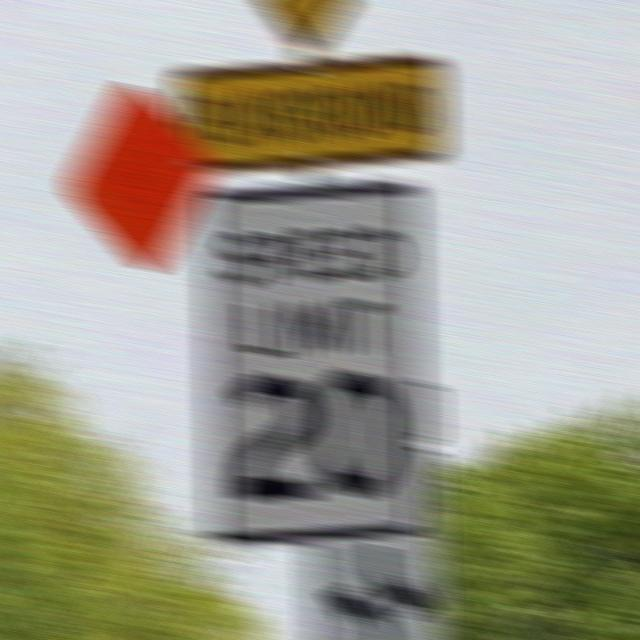speedLimit20: (213, 190, 415, 540)
